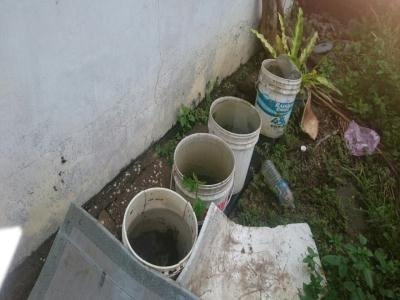bottle: (257, 159, 298, 212)
bucket: (117, 185, 201, 283), (167, 130, 237, 223), (204, 94, 263, 198), (253, 56, 303, 141)
plastic_bag: (339, 117, 383, 161)
